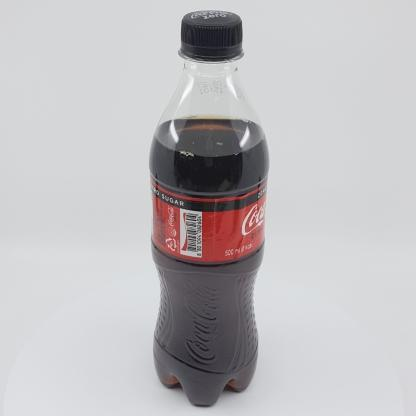------500ML: (149, 10, 270, 406)
